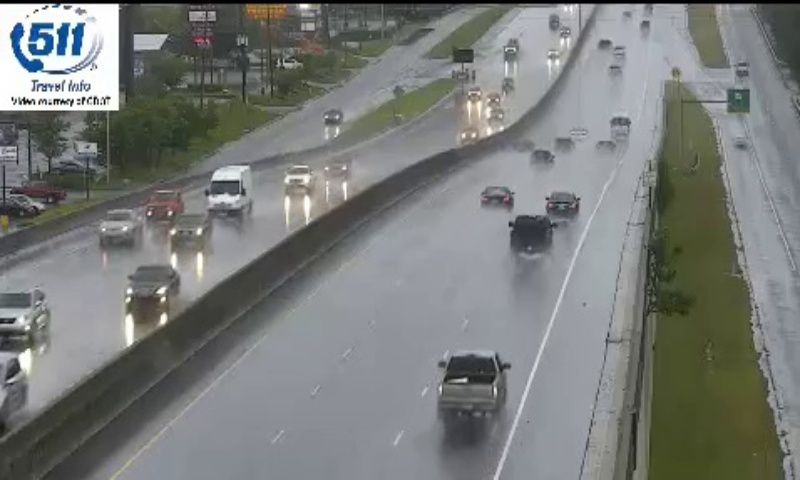car: (436, 348, 505, 413), (508, 215, 552, 253), (545, 190, 577, 219), (478, 184, 513, 209)
